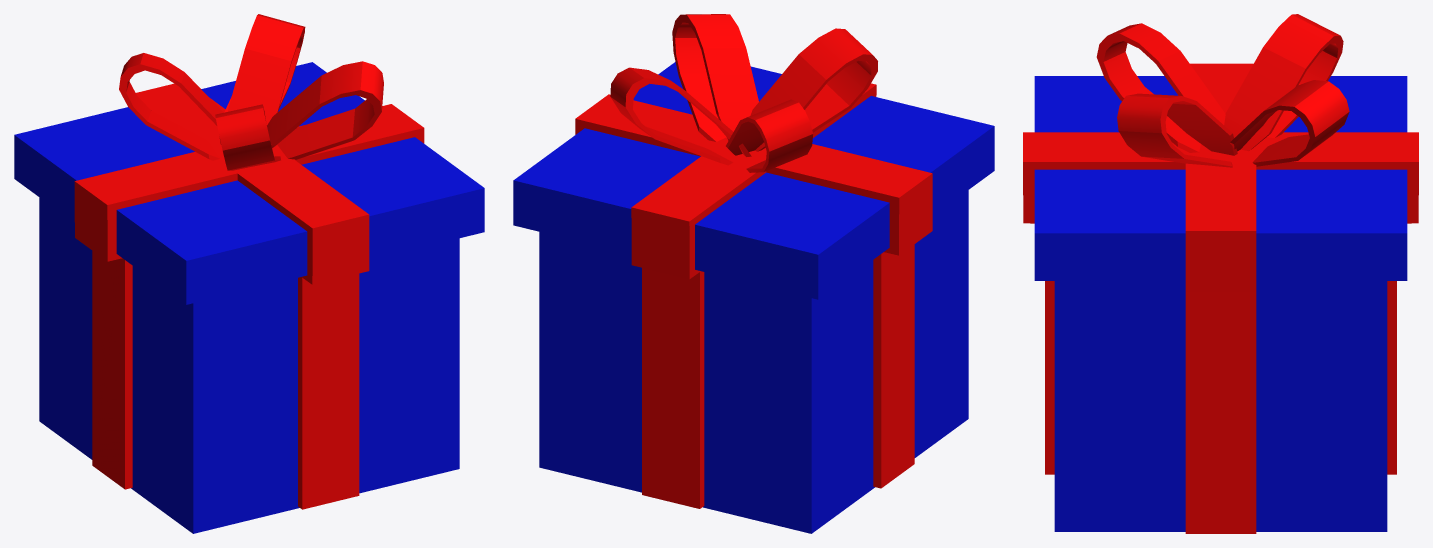
File: Regalo.fbx
3 views of the same model, side by side, from view 1: azimuth 30°, elevation 25°; view 2: azimuth 150°, elevation 25°; view 3: azimuth 270°, elevation 25° (orthographic). The views are drawn at different scales.
Visible parts, largest first — view 1: Cube, Cube.005, Cube.001, Cube.002, Cube.014, Cube.015, Cube.004, Cube.003; view 2: Cube, Cube.005, Cube.001, Cube.002, Cube.014, Cube.003, Cube.004, Cube.015; view 3: Cube, Cube.005, Cube.002, Cube.001, Cube.004, Cube.014, Cube.003, Cube.015.
Part boxes in pixels (x1=…): Cube: x1=39, y1=197, x2=459, y2=533; Cube.005: x1=14, y1=62, x2=484, y2=304; Cube.001: x1=136, y1=83, x2=369, y2=509; Cube.002: x1=74, y1=104, x2=424, y2=489; Cube.014: x1=267, y1=61, x2=383, y2=159; Cube.015: x1=224, y1=14, x2=305, y2=124; Cube.004: x1=119, y1=53, x2=223, y2=160; Cube.003: x1=215, y1=104, x2=280, y2=170; Cube: x1=539, y1=190, x2=968, y2=533; Cube.005: x1=513, y1=62, x2=994, y2=299; Cube.001: x1=631, y1=83, x2=876, y2=508; Cube.002: x1=575, y1=94, x2=932, y2=488; Cube.014: x1=672, y1=14, x2=758, y2=141; Cube.003: x1=750, y1=28, x2=877, y2=151; Cube.004: x1=726, y1=99, x2=812, y2=172; Cube.015: x1=610, y1=67, x2=751, y2=165; Cube: x1=1054, y1=281, x2=1387, y2=531; Cube.005: x1=1034, y1=76, x2=1407, y2=280; Cube.002: x1=1185, y1=63, x2=1256, y2=533; Cube.001: x1=1023, y1=132, x2=1418, y2=474; Cube.004: x1=1224, y1=14, x2=1343, y2=151; Cube.014: x1=1117, y1=93, x2=1237, y2=167; Cube.003: x1=1096, y1=23, x2=1225, y2=152; Cube.015: x1=1230, y1=80, x2=1349, y2=166.
Size of the model in its own units: 238 by 272 by 238.
